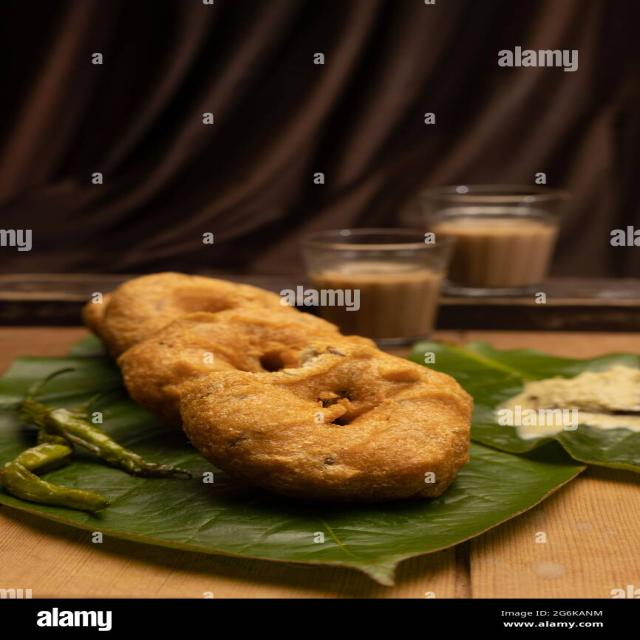MEDU VADA: (92, 271, 489, 506)
